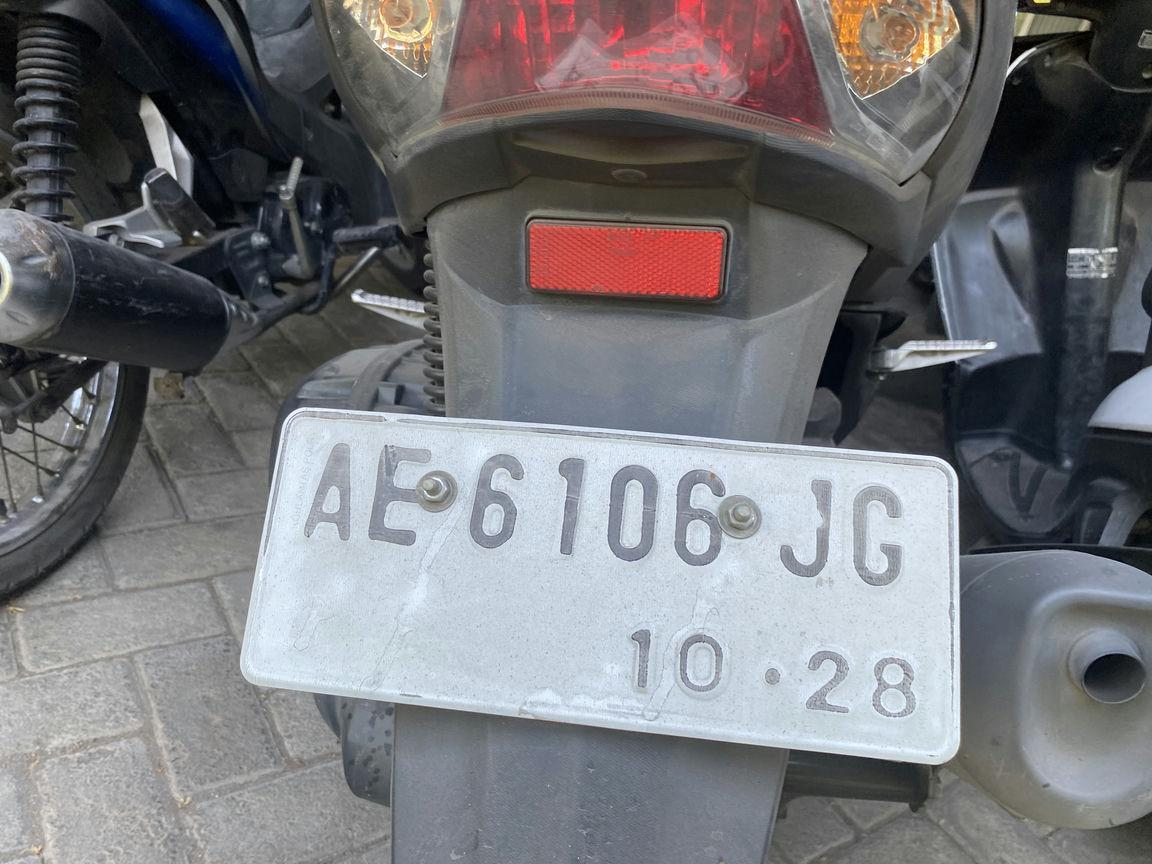plat: (243, 410, 958, 763)
